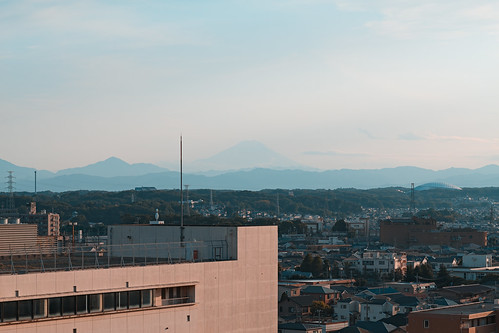building: (1, 222, 284, 333), (375, 217, 490, 249), (415, 305, 499, 333), (337, 245, 405, 278), (336, 294, 395, 324)
sky: (1, 1, 492, 159)
